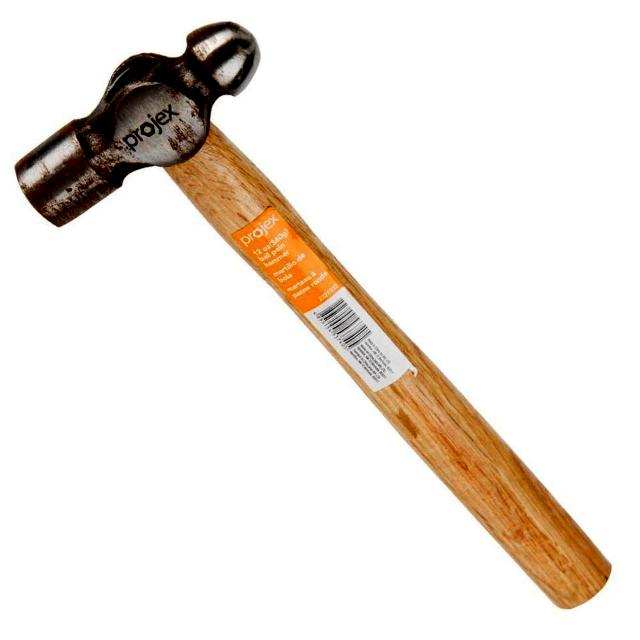hammer: (6, 12, 622, 616)
